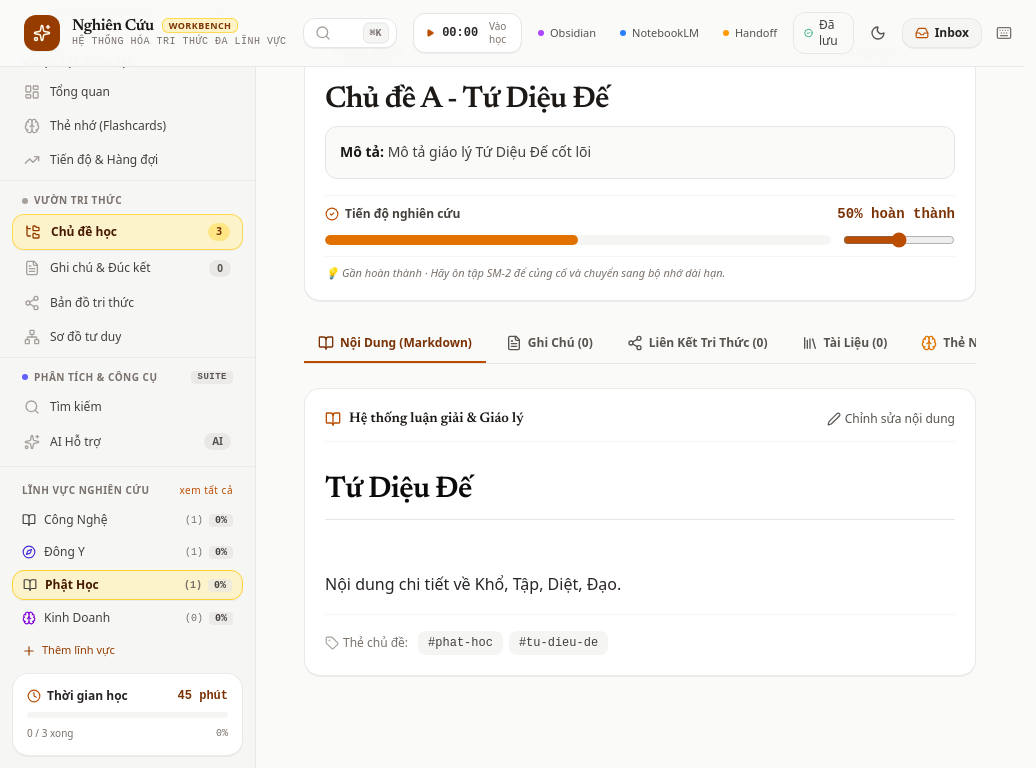
Scenario: Sidebar Category Navigation Integration Tests (Test-First) › Scenario 3: Bấm lại lĩnh vực đang chọn (toggle off)
This screenshot has width=1036, height=768.
(page scrolled)
expect the heading "Chủ đề A - Tứ Diệu Đế" is shown: met, box [325,85,609,115]
What coordinates should you click on to do the following:
click the button "Phật Học (1) 0%"
I would click on:
 (128, 585)
Its box is [12,570,243,600].
(page scrolled)
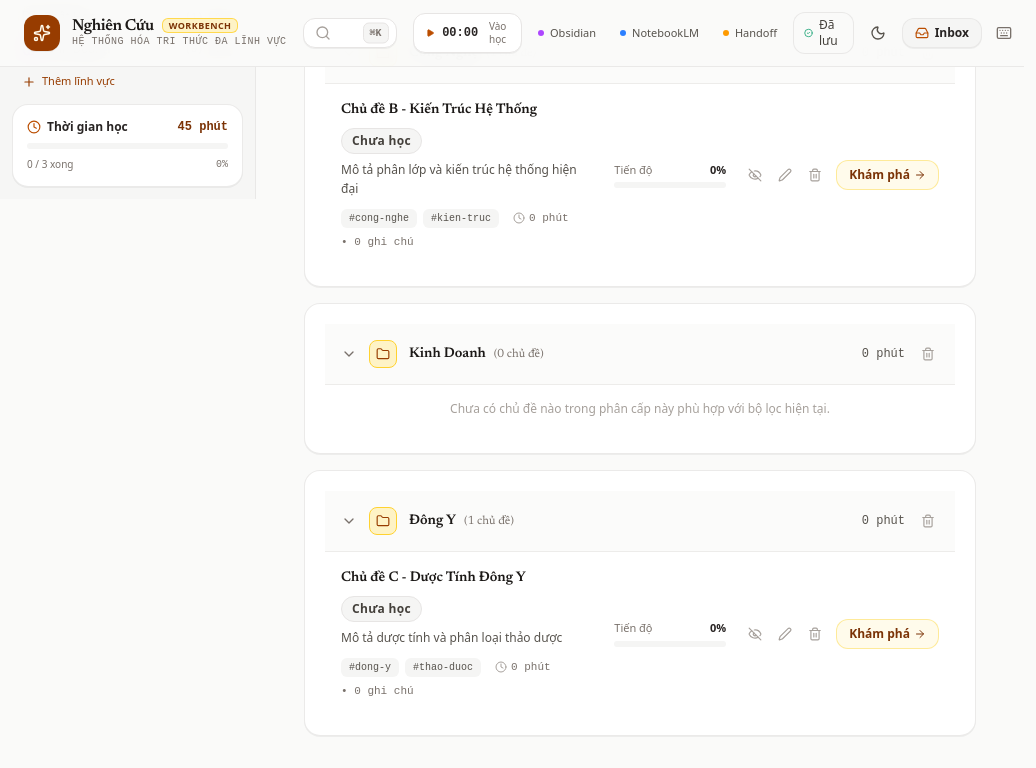
expect the heading "Chủ đề A - Tứ Diệu Đế" is not shown: met
expect the heading "Chủ đề B - Kiến Trúc Hệ Thống" is shown: met, box [341,100,537,120]
expect the heading "Chủ đề C - Dược Tính Đông Y" is shown: met, box [341,568,526,588]
